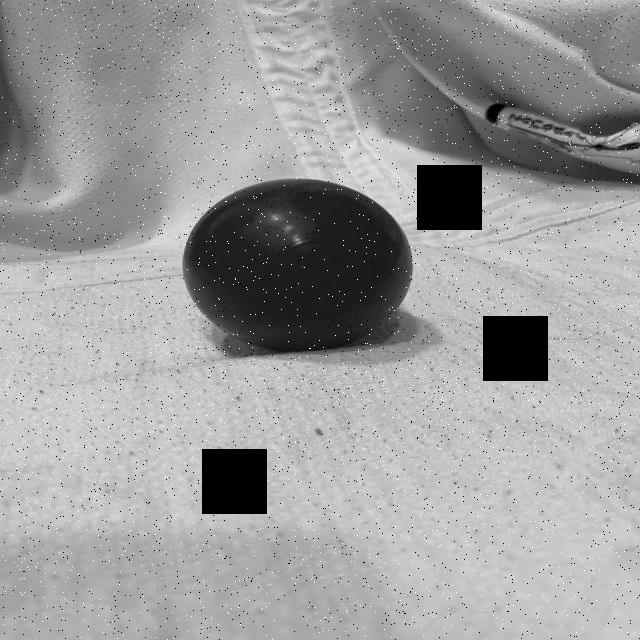ball: (177, 174, 415, 353)
